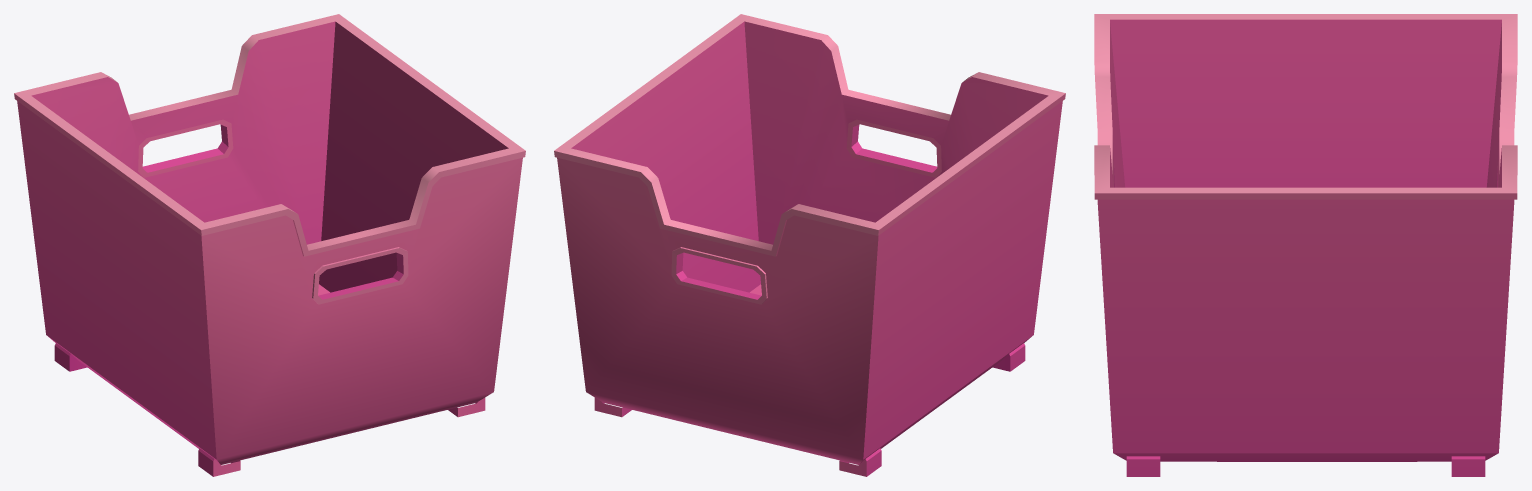
Rendered from CR_Basket_002.FBX.
3 views of the same model, side by side, from view 1: azimuth 30°, elevation 25°; view 2: azimuth 150°, elevation 25°; view 3: azimuth 270°, elevation 25° (orthographic). The views are drawn at different scales.
Visible parts, largest first — view 1: CR_Basket_002; view 2: CR_Basket_002; view 3: CR_Basket_002.
Boxes of the visible parts, x1,y1,x2,y2 form: CR_Basket_002: (14, 14, 525, 476); CR_Basket_002: (554, 14, 1065, 476); CR_Basket_002: (1094, 14, 1517, 476).
Bounding box in the file's own units: 23.69 × 18.37 × 23.63.
1 material, 1 textured.
